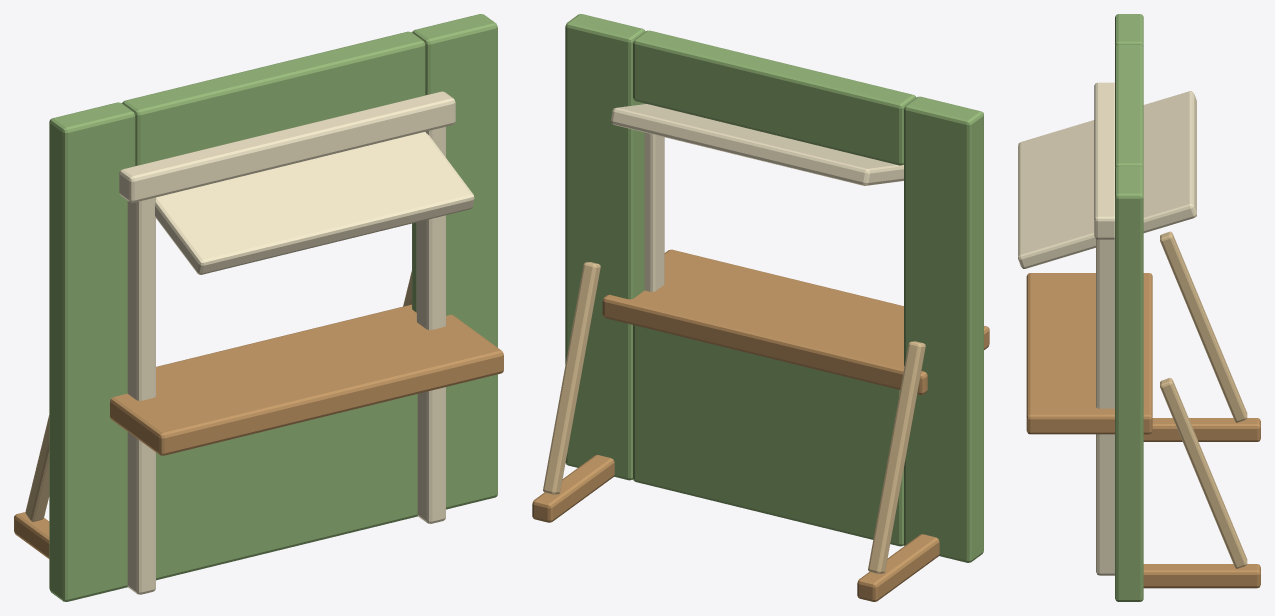
Rendered from S009_serving_hatch.glb.
3 views of the same model, side by side, from view 1: azimuth 30°, elevation 25°; view 2: azimuth 150°, elevation 25°; view 3: azimuth 270°, elevation 25° (orthographic). The views are drawn at different scales.
Parts seen in each view (by area): view 1: wall_side, hatch_lower_wall, hatch_counter, hatch_shutter, wall_side.001, wall_lintel, door_lintel, door_jamb, door_jamb.001, rear_triangular_brace, rear_plywood_foot; view 2: hatch_lower_wall, wall_side, wall_side.001, hatch_counter, wall_lintel, hatch_shutter, rear_triangular_brace.001, rear_triangular_brace, door_jamb.001, rear_plywood_foot.001, rear_plywood_foot; view 3: hatch_shutter, hatch_counter, wall_side.001, door_jamb.001, wall_lintel, door_lintel, rear_triangular_brace, rear_triangular_brace.001, rear_plywood_foot.001, rear_plywood_foot, wall_side.
Boxes of the visible parts, x1,y1,x2,y2 form: wall_side: [49, 102, 135, 601]; hatch_lower_wall: [156, 394, 417, 580]; hatch_counter: [110, 304, 503, 455]; hatch_shutter: [155, 132, 474, 274]; wall_side.001: [412, 14, 497, 509]; wall_lintel: [122, 31, 425, 165]; door_lintel: [119, 91, 455, 202]; door_jamb: [127, 197, 155, 594]; door_jamb.001: [416, 126, 445, 523]; rear_triangular_brace: [25, 415, 49, 521]; rear_plywood_foot: [14, 512, 49, 558]; hatch_lower_wall: [633, 325, 903, 546]; wall_side: [904, 96, 983, 562]; wall_side.001: [565, 14, 645, 480]; hatch_counter: [602, 249, 989, 394]; wall_lintel: [633, 30, 915, 165]; hatch_shutter: [611, 104, 903, 185]; rear_triangular_brace.001: [543, 262, 600, 494]; rear_triangular_brace: [868, 341, 925, 573]; door_jamb.001: [644, 103, 664, 291]; rear_plywood_foot.001: [532, 455, 614, 522]; rear_plywood_foot: [857, 534, 939, 601]; hatch_shutter: [1018, 91, 1196, 268]; hatch_counter: [1026, 273, 1152, 434]; wall_side.001: [1115, 166, 1143, 601]; door_jamb.001: [1096, 239, 1114, 575]; wall_lintel: [1115, 44, 1143, 168]; door_lintel: [1094, 82, 1114, 239]; rear_triangular_brace: [1160, 231, 1247, 422]; rear_triangular_brace.001: [1160, 378, 1247, 568]; rear_plywood_foot.001: [1143, 564, 1260, 588]; rear_plywood_foot: [1143, 418, 1260, 441]; wall_side: [1115, 14, 1143, 46].
Size of the model in its own units: 2.4 by 2.5 by 1.35.
